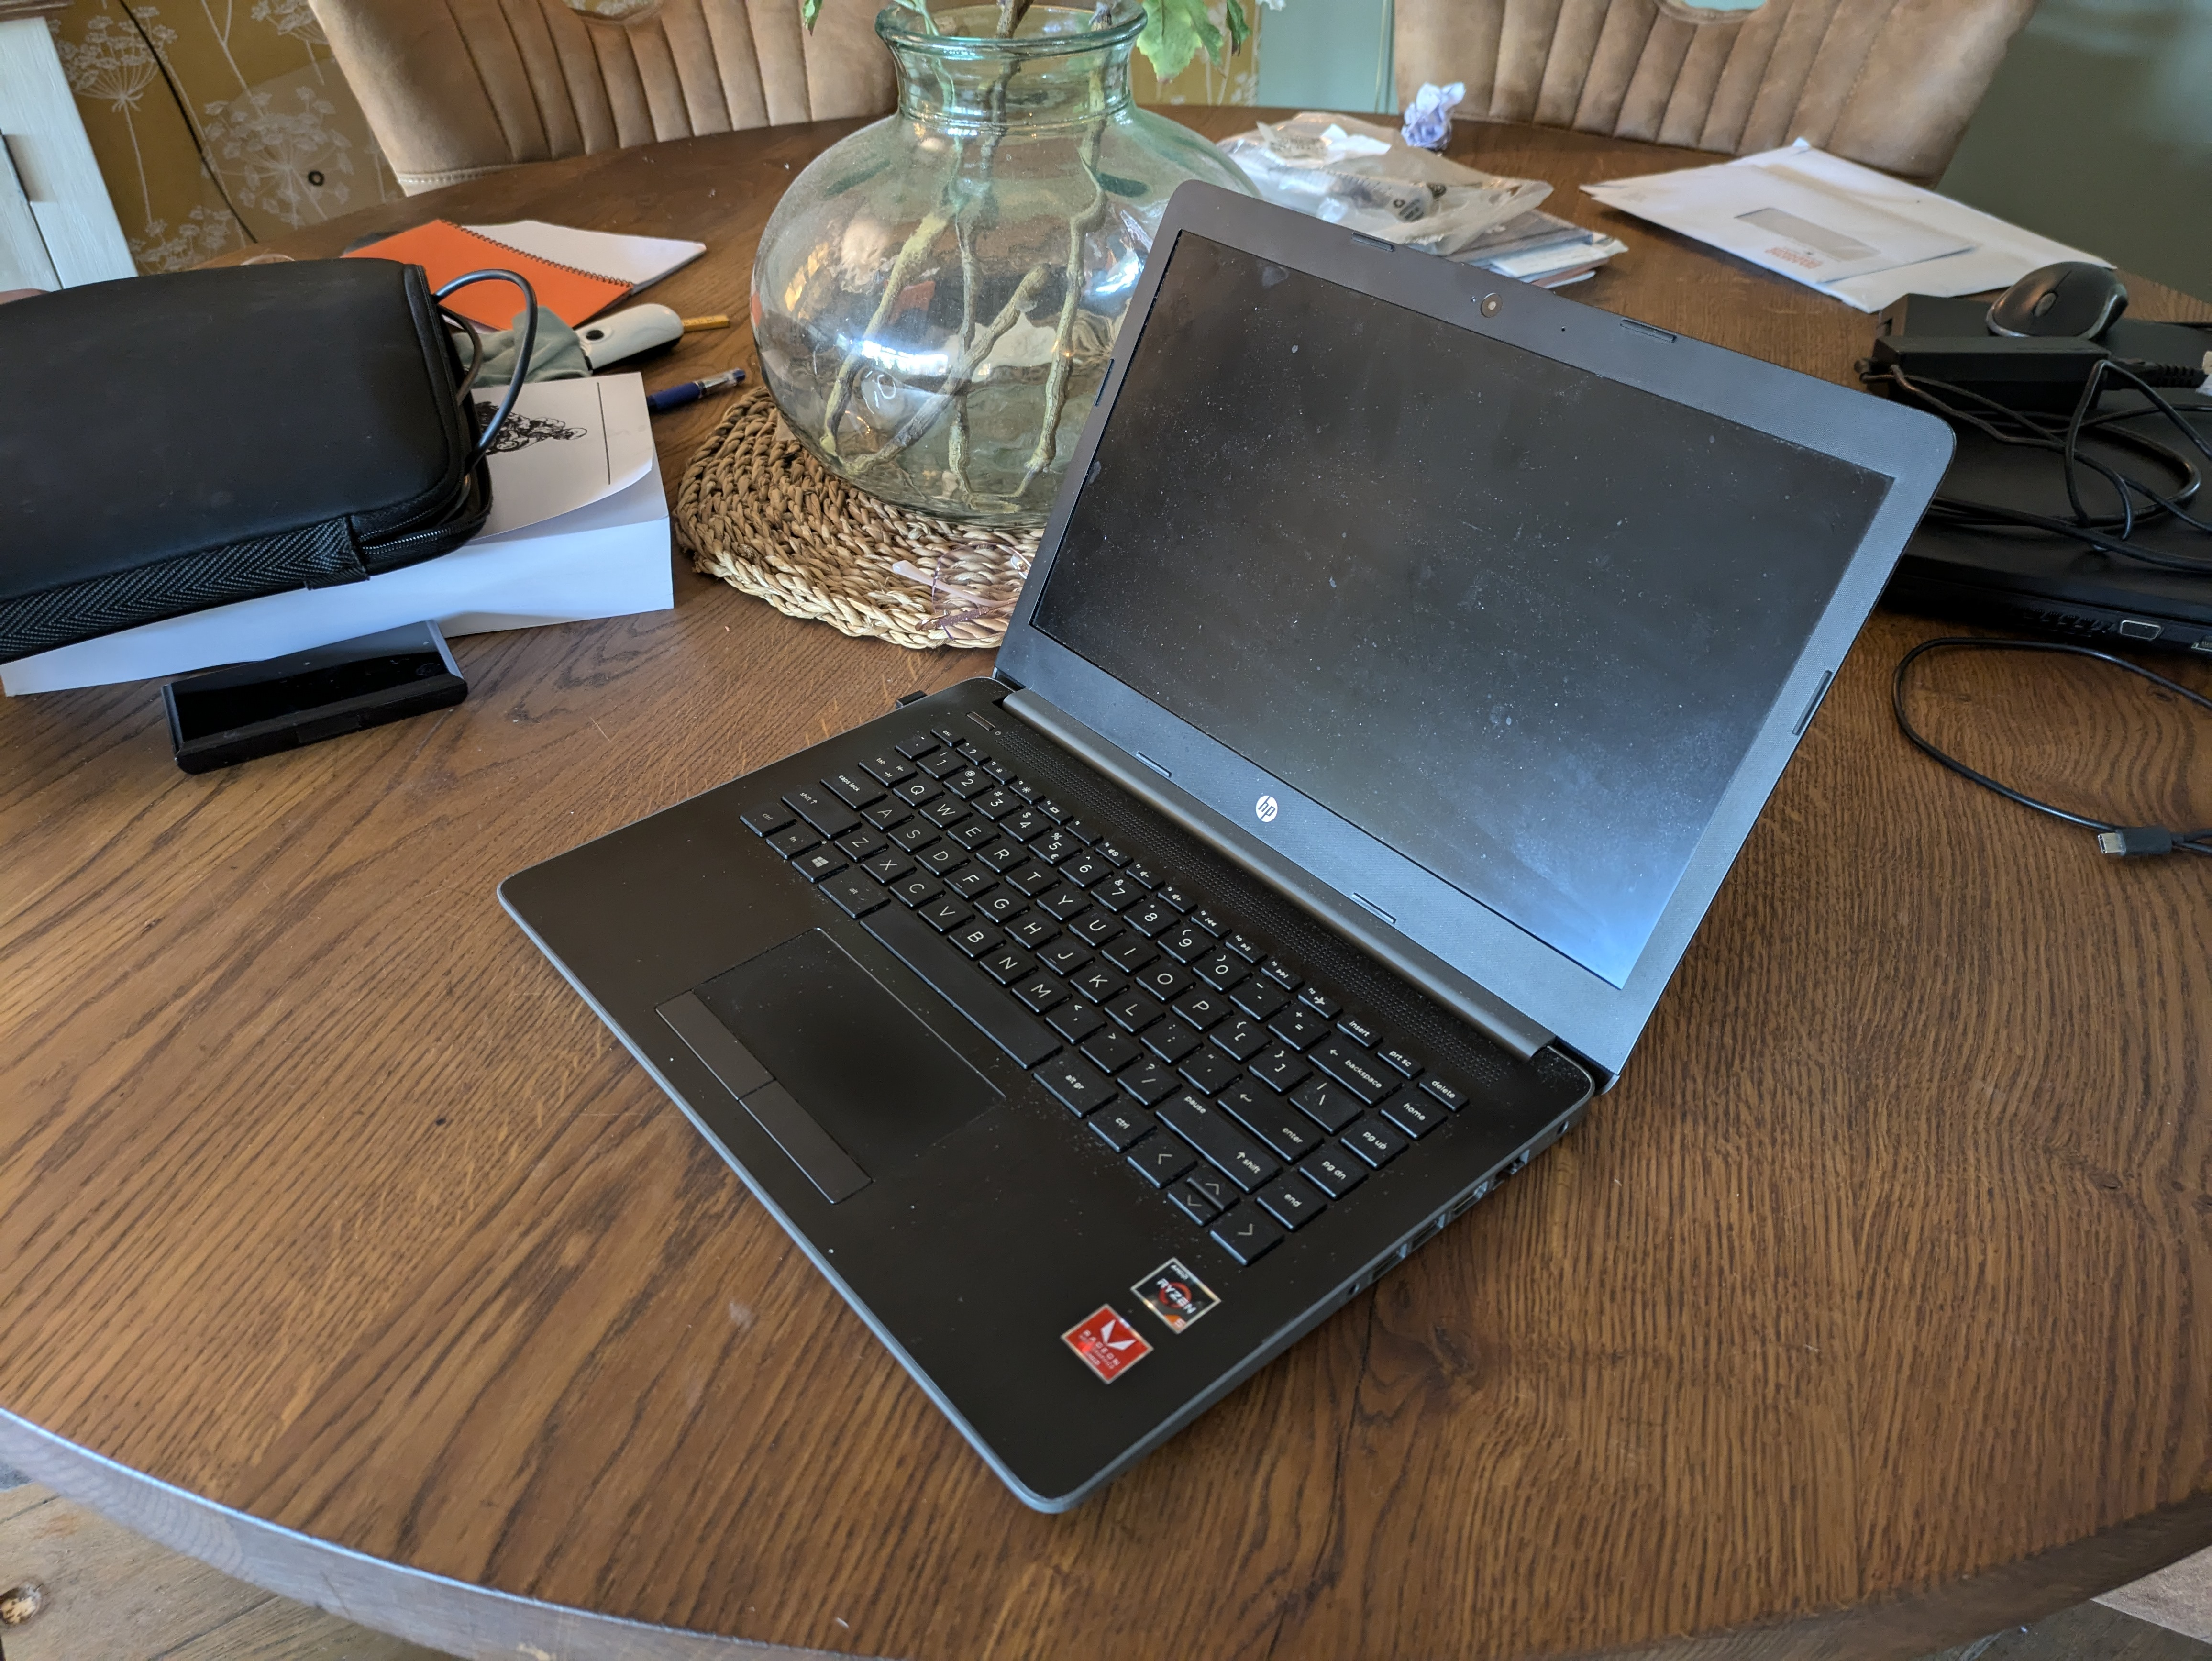laptop: (438, 134, 1999, 1574)
